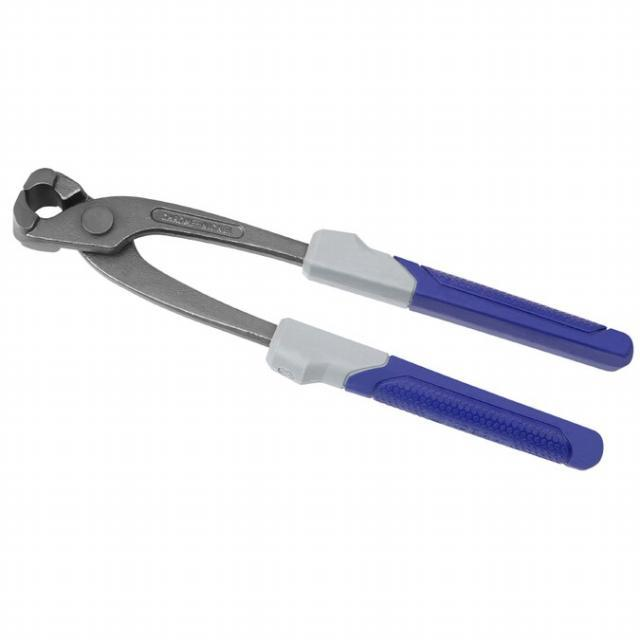pliers: (6, 159, 638, 483)
